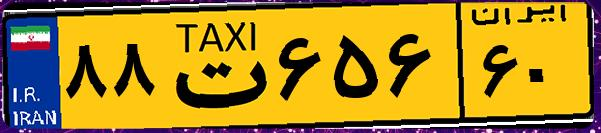0: (525, 38, 570, 115)
5: (330, 28, 385, 110)
6: (270, 28, 330, 110), (385, 28, 445, 110), (475, 38, 525, 113)
8: (57, 26, 110, 100), (110, 28, 158, 98)
ت: (158, 12, 270, 120)
